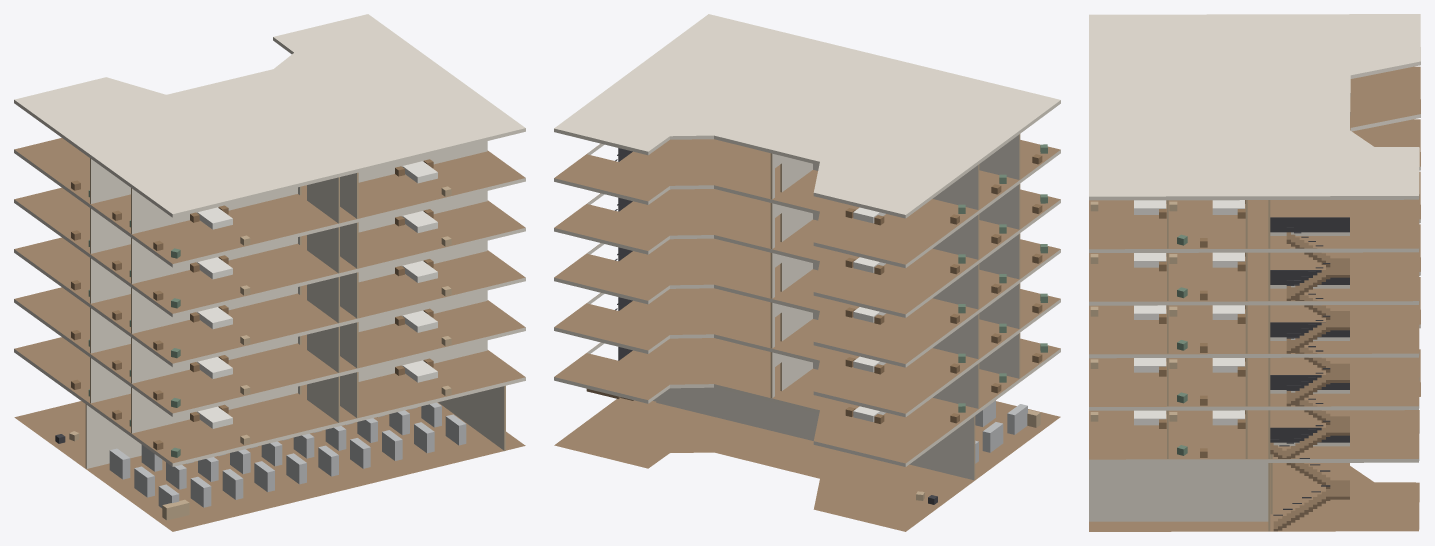
File: interior.glb
The picture shows the model from 3 angles, left to right: view 1: azimuth 30°, elevation 25°; view 2: azimuth 150°, elevation 25°; view 3: azimuth 270°, elevation 25°; orthographic projection. The views are drawn at different scales.
Parts seen in each view (by area): view 1: slabs, partitions, coarse-s0, coarse-s5, coarse-s4, coarse-s2, coarse-s3, coarse-s1; view 2: slabs, partitions, coarse-s0, coarse-s2, coarse-s5, coarse-s1, coarse-s4, coarse-s3, stair; view 3: slabs, partitions, stair, coarse-s1, coarse-s4, coarse-s3, coarse-s5, coarse-s2.
Part boxes in pixels (bbox=[...]): slabs: bbox=[14, 14, 525, 531]; partitions: bbox=[85, 141, 505, 468]; coarse-s0: bbox=[55, 402, 466, 520]; coarse-s5: bbox=[71, 159, 451, 258]; coarse-s4: bbox=[71, 209, 451, 308]; coarse-s2: bbox=[71, 308, 451, 407]; coarse-s3: bbox=[71, 259, 451, 358]; coarse-s1: bbox=[71, 358, 451, 457]; slabs: bbox=[554, 14, 1060, 531]; partitions: bbox=[653, 134, 1020, 480]; coarse-s0: bbox=[916, 400, 1040, 504]; coarse-s2: bbox=[845, 293, 1047, 374]; coarse-s5: bbox=[845, 144, 1047, 225]; coarse-s1: bbox=[845, 343, 1047, 423]; coarse-s4: bbox=[845, 194, 1047, 274]; coarse-s3: bbox=[845, 244, 1047, 324]; stair: bbox=[586, 148, 633, 400]; slabs: bbox=[1089, 14, 1420, 531]; partitions: bbox=[1089, 200, 1272, 531]; stair: bbox=[1270, 217, 1349, 531]; coarse-s1: bbox=[1090, 410, 1245, 457]; coarse-s4: bbox=[1090, 252, 1245, 300]; coarse-s3: bbox=[1090, 305, 1245, 352]; coarse-s5: bbox=[1090, 200, 1245, 247]; coarse-s2: bbox=[1090, 358, 1245, 405].
Size of the model in its own units: 26.69 by 22.87 by 20.49.
